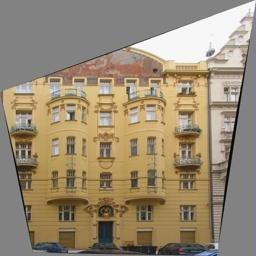building: (0, 19, 215, 256)
